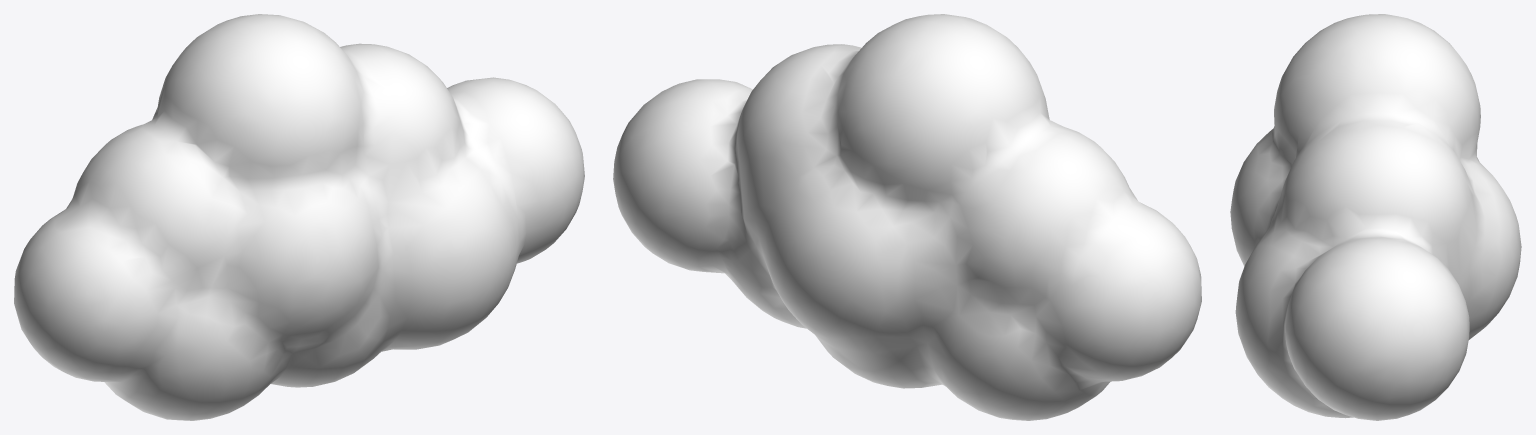
File: chmura.gltf
3 renders of one model, left to right at view 1: azimuth 30°, elevation 25°; view 2: azimuth 150°, elevation 25°; view 3: azimuth 270°, elevation 25°, orthographic. The views are drawn at different scales.
Parts seen in each view (by area): view 1: Mball.014; view 2: Mball.014; view 3: Mball.014.
Boxes of the visible parts, box(x1,y1,x2,y2) form: Mball.014: box(14, 14, 584, 420); Mball.014: box(613, 14, 1201, 420); Mball.014: box(1230, 14, 1521, 420).
Size of the model in its own units: 10.25 by 6.48 by 4.85.
1 material, 1 textured.
